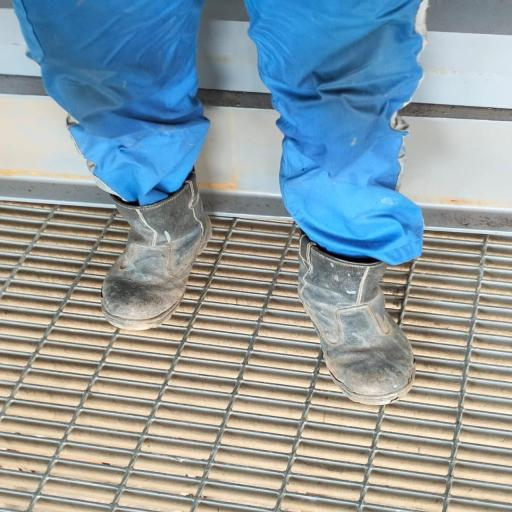safety_shoe: (295, 232, 422, 409), (101, 164, 216, 334)
